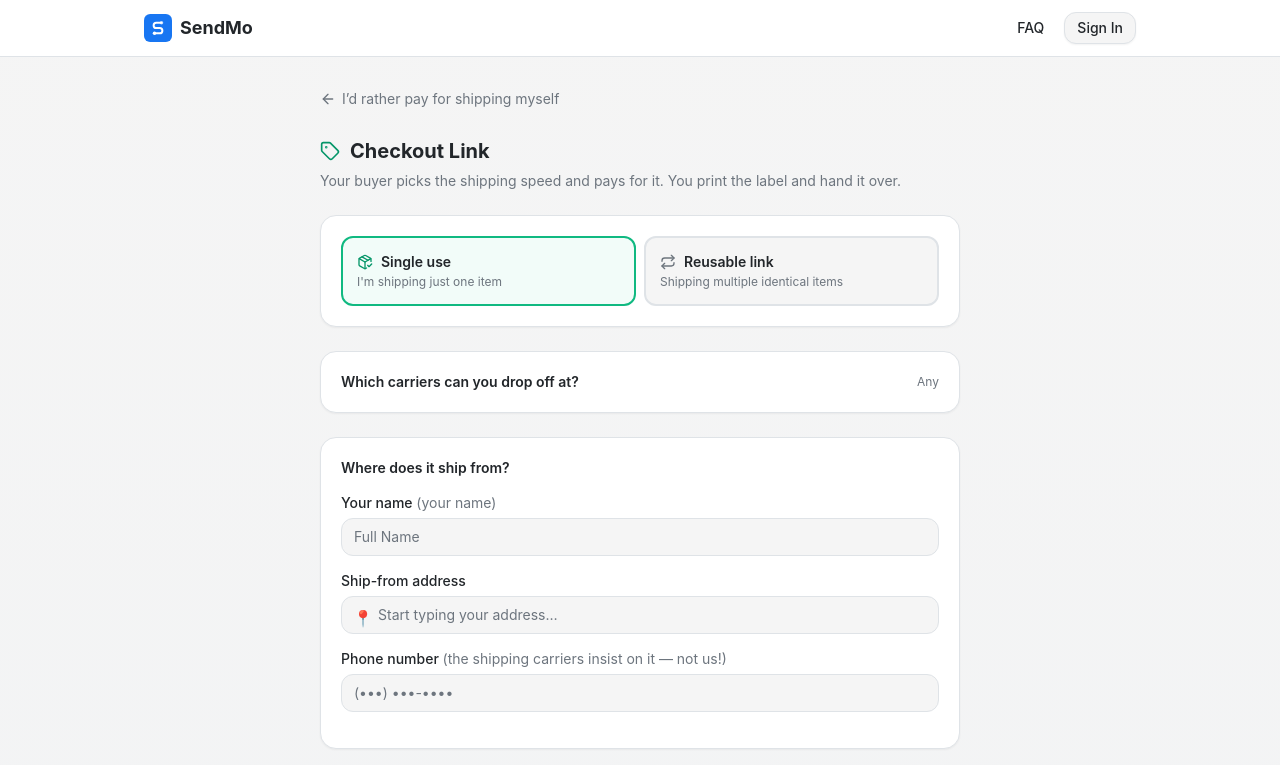
SellerBuilder — carrier constraint › re-selecting every carrier returns to the unconstrained summary
Click the button "Which carriers can you drop off at? Any".
click(460, 382)  # box [341, 372, 939, 392]
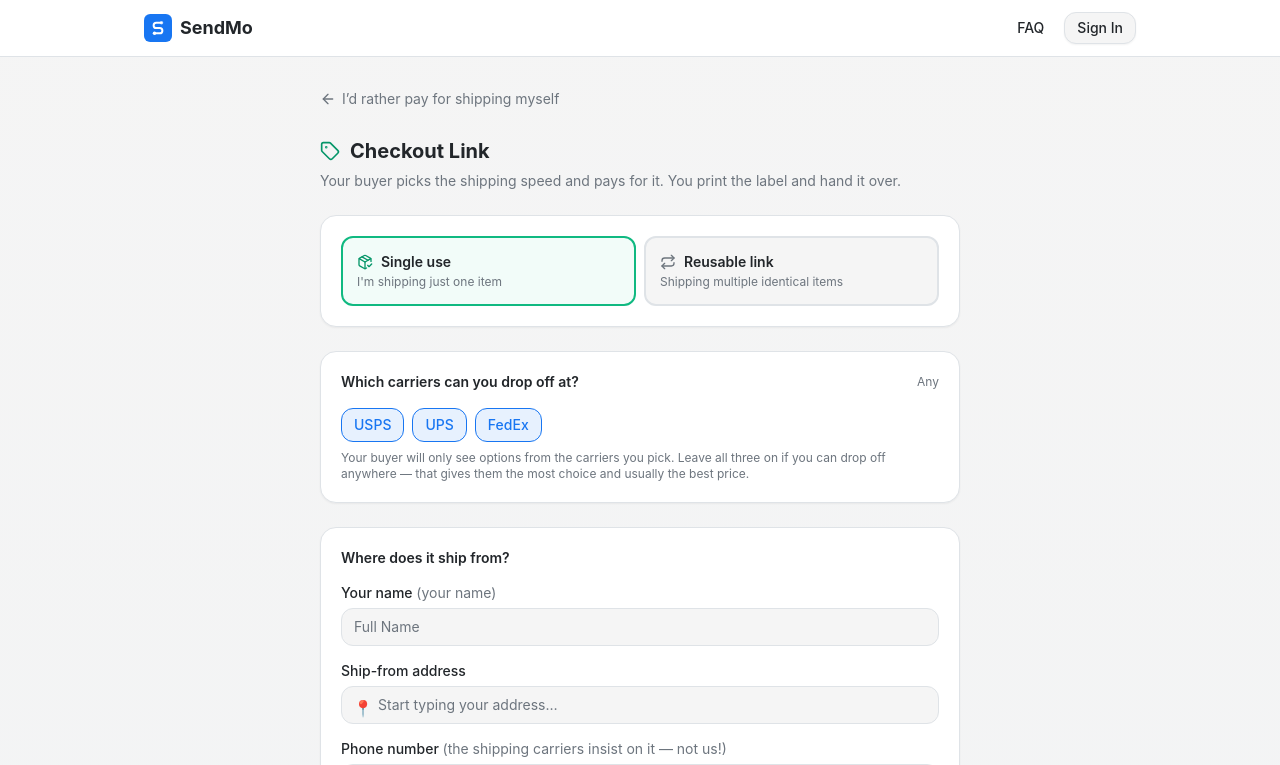
Click the button "FedEx".
click(508, 425)  # box [475, 408, 542, 442]
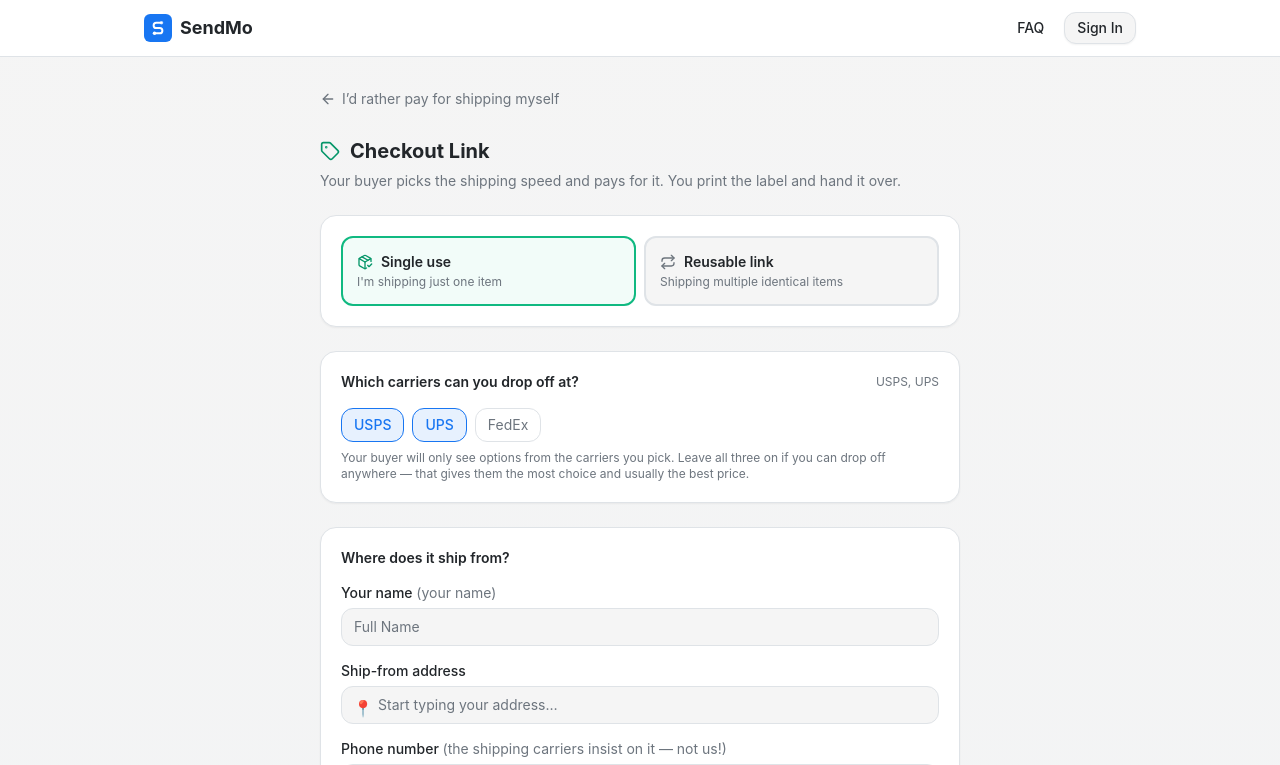
Now the button "Any" is gone
Click the button "FedEx".
click(508, 425)  # box [475, 408, 541, 442]
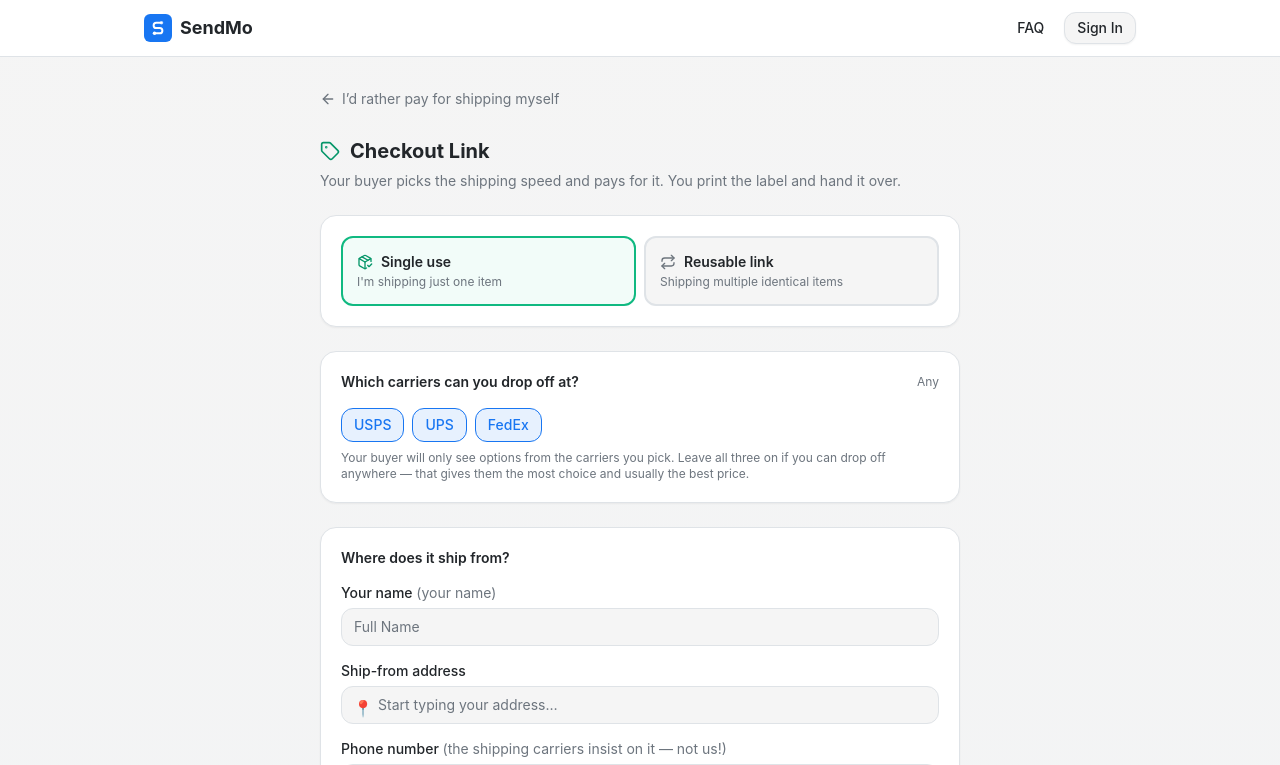
Now the text "Any" is shown, box [917, 374, 939, 390]
